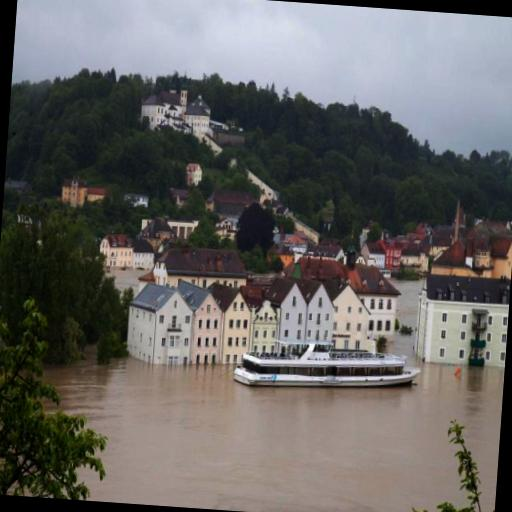flood: (44, 358, 504, 512)
house: (415, 272, 511, 374), (252, 270, 338, 364), (122, 278, 196, 376), (171, 282, 223, 368), (204, 280, 254, 366), (344, 262, 402, 334), (138, 88, 215, 140), (159, 243, 251, 285), (262, 278, 308, 344), (330, 283, 374, 351), (98, 232, 138, 274), (206, 188, 247, 216), (60, 174, 90, 210), (142, 216, 178, 242), (425, 234, 455, 260), (361, 240, 387, 268), (472, 238, 494, 270), (314, 242, 345, 262), (381, 238, 404, 260), (186, 162, 204, 186), (276, 246, 296, 266), (124, 192, 149, 208), (402, 248, 422, 268), (218, 217, 234, 231)
